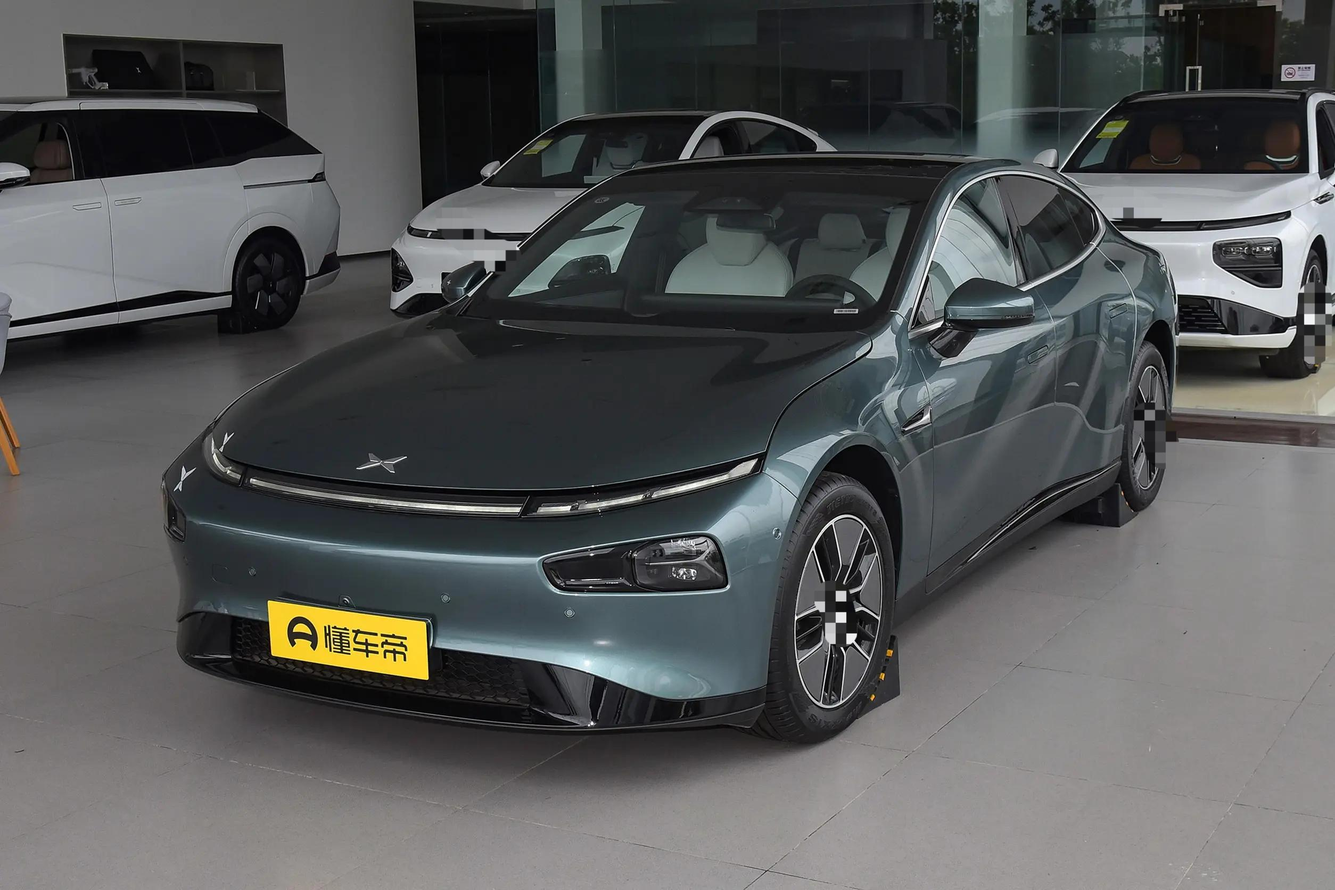XPeng Motors: (357, 453, 407, 473)
